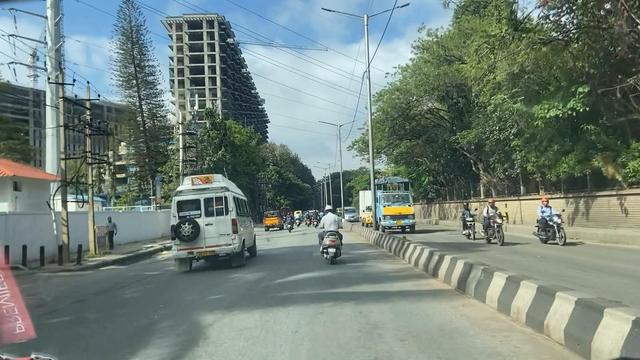HMV: (165, 170, 263, 272)
LMV: (308, 201, 348, 259)
